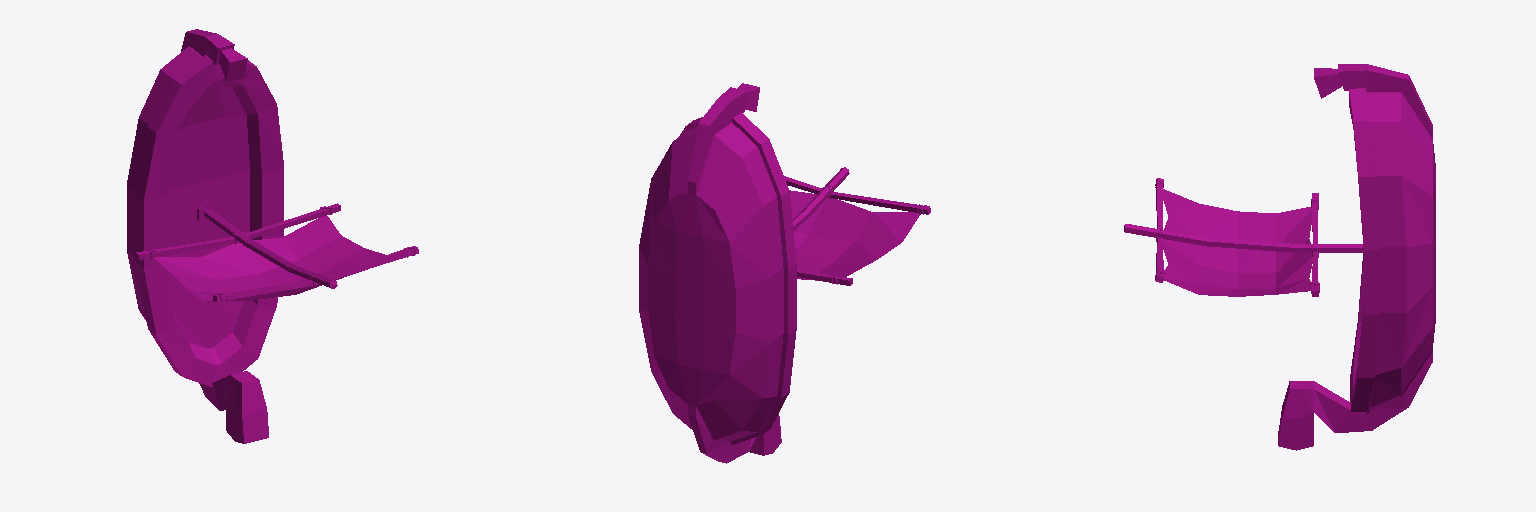
File: ship_OBJ.obj
3 renders of one model, left to right at view 1: azimuth 30°, elevation 25°; view 2: azimuth 150°, elevation 25°; view 3: azimuth 270°, elevation 25°, orthographic.
Visible parts, largest first — view 1: ship; view 2: ship; view 3: ship.
Boxes of the visible parts, box(x1,y1,x2,y2) form: ship: box(127, 29, 418, 443); ship: box(639, 83, 930, 463); ship: box(1124, 64, 1435, 450).
Bounding box in the file's own units: 1182 × 2097 × 1576.